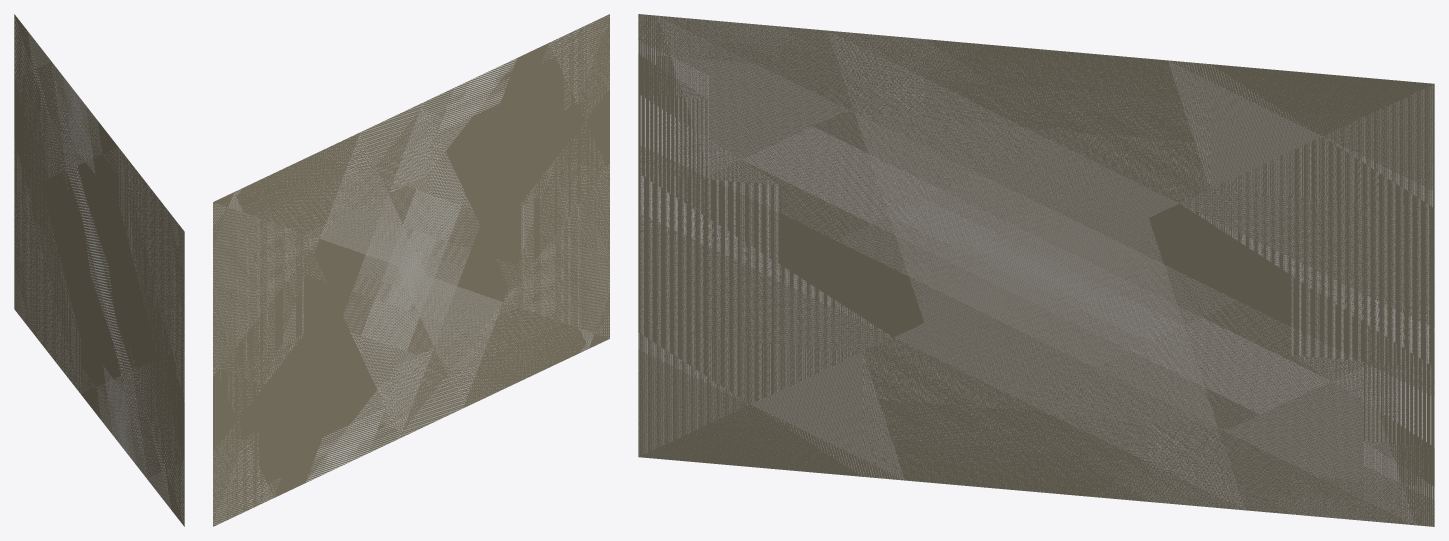
File: 大本钟71.dae
The picture shows the model from 3 angles, left to right: view 1: azimuth 30°, elevation 25°; view 2: azimuth 150°, elevation 25°; view 3: azimuth 270°, elevation 25°; orthographic projection. The views are drawn at different scales.
Visible parts, largest first — view 1: SketchUp; view 2: SketchUp; view 3: SketchUp.
Part boxes in pixels (x1=…): SketchUp: x1=14, y1=14, x2=184, y2=526; SketchUp: x1=213, y1=14, x2=609, y2=526; SketchUp: x1=638, y1=14, x2=1434, y2=526.
Bounding box in the file's own units: 8.11 × 39.11 × 24.02.
